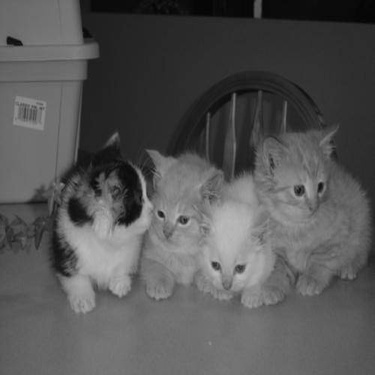cat: (255, 122, 370, 308), (56, 129, 153, 319), (145, 150, 223, 298), (203, 172, 278, 313)
